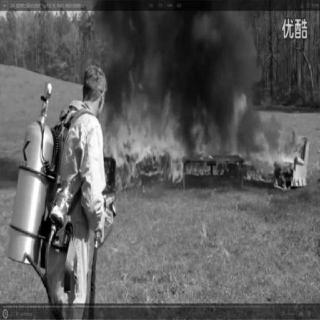Fire: (84, 27, 311, 197)
